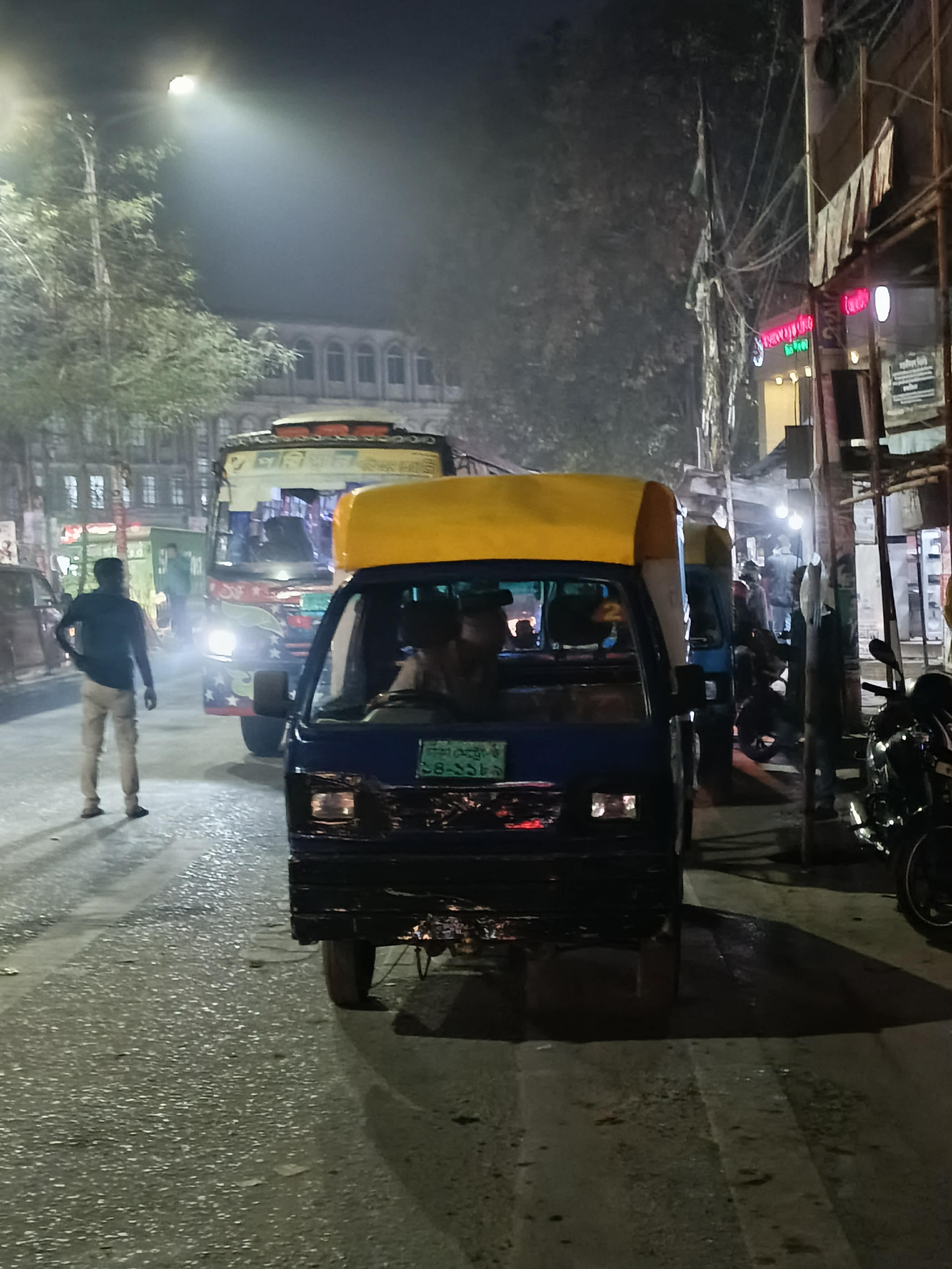Leguna: (269, 457, 718, 1018)
